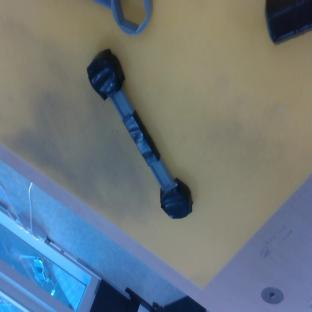part_2_bad: (265, 0, 312, 43)
part_3_bad: (79, 46, 200, 226)
part_3_good: (93, 0, 152, 34)
